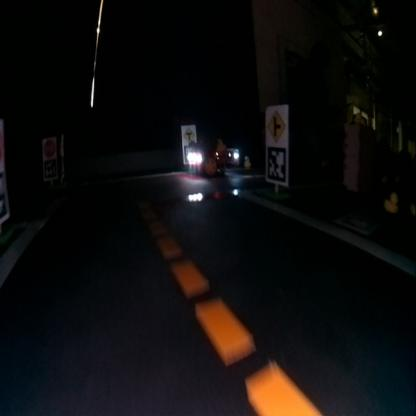Duckie: (384, 192, 397, 210), (216, 139, 224, 149), (244, 158, 250, 166)
Duckiebot: (187, 143, 228, 176)
Intersection sign: (265, 109, 287, 139), (182, 125, 196, 142)
QR code: (265, 144, 287, 182), (42, 158, 56, 180), (183, 146, 197, 164)
Stop sign: (43, 139, 55, 157)
